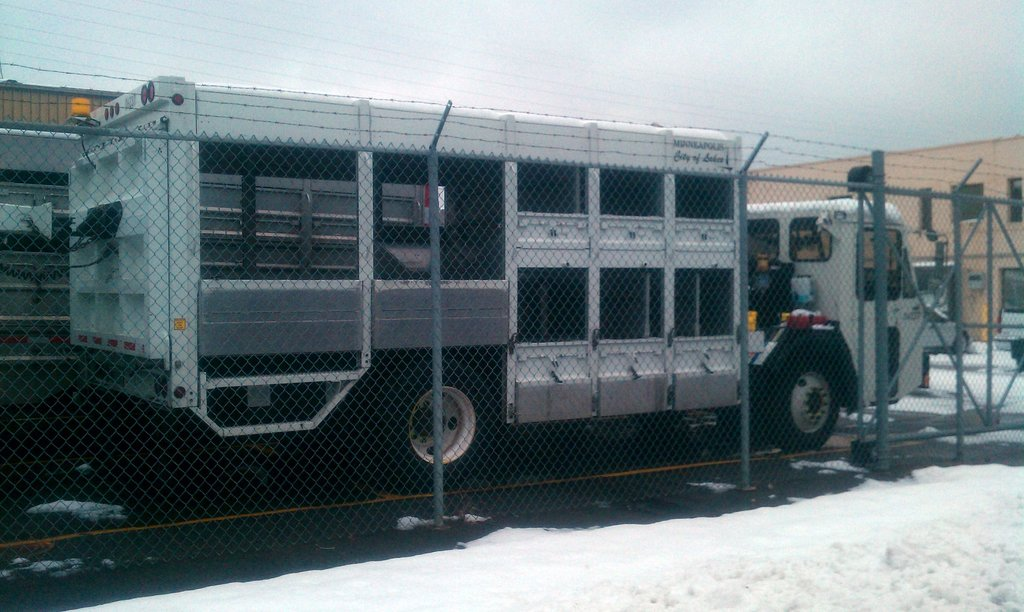Car: (921, 303, 971, 354)
